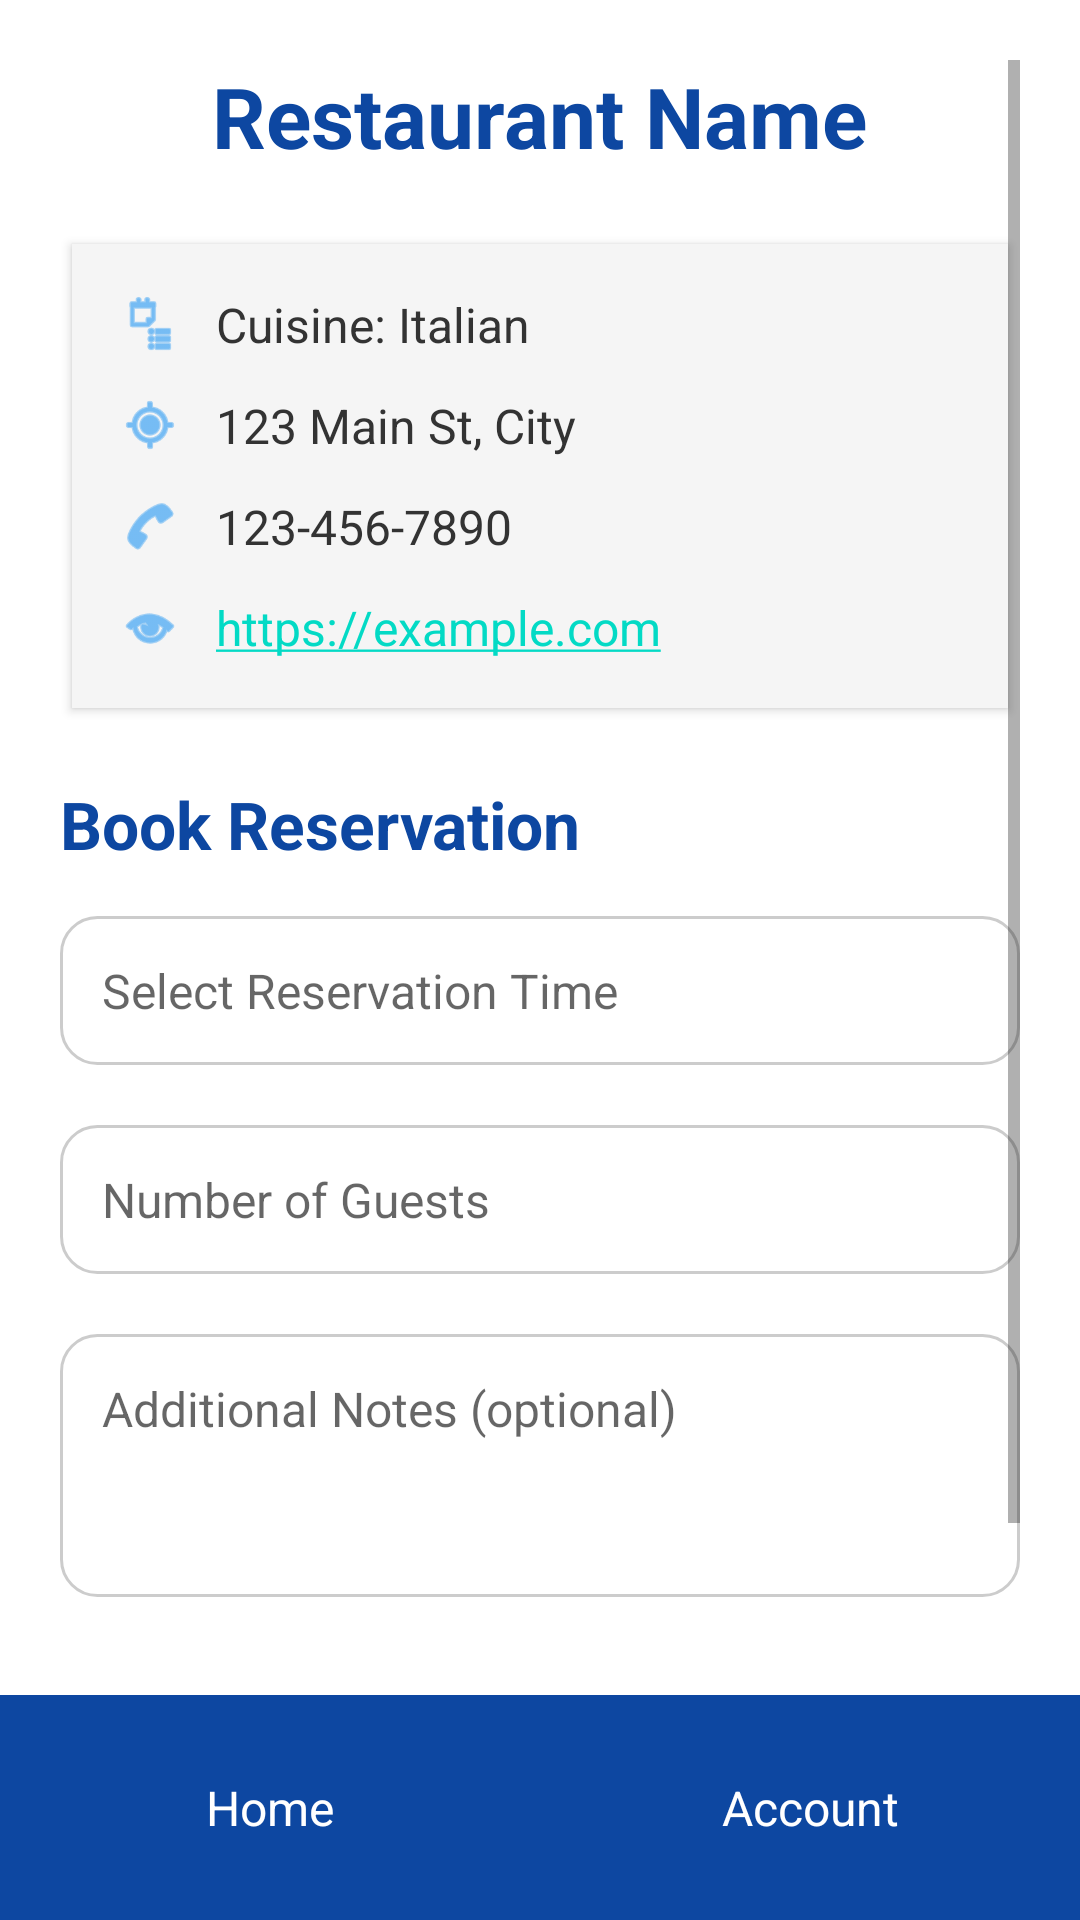

Point at icon controls on the screen. Image size 1080*1920, points as (x=x, y=y).
agenda: (x=150, y=323)
call: (x=150, y=526)
mylocation: (x=150, y=425)
view: (x=150, y=628)
